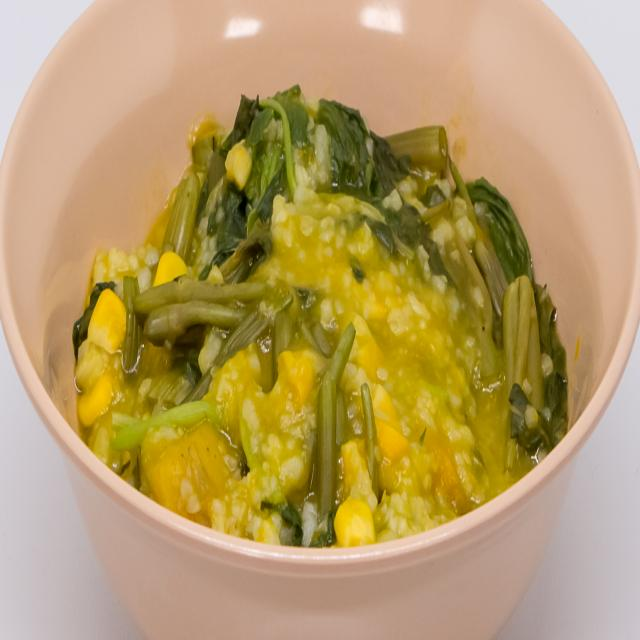Bubur-Manado: (60, 52, 579, 561)
